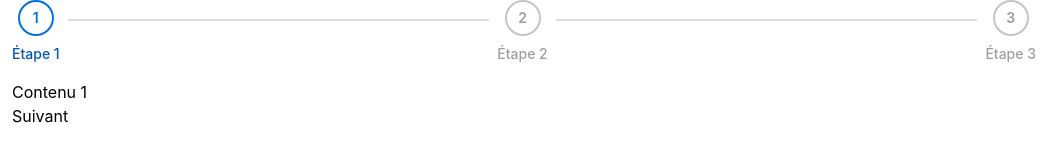
Test: Stepper › navigue via activateCallback
The width and height of the screenshot is (1048, 160).
Click the button "Suivant": x=40, y=116 [12, 104, 68, 128]
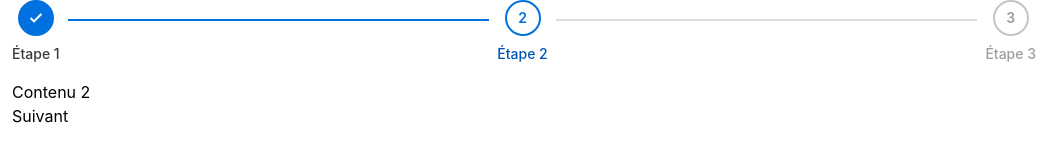
Check: the text "Contenu 2" is shown, box [12, 82, 90, 102]
